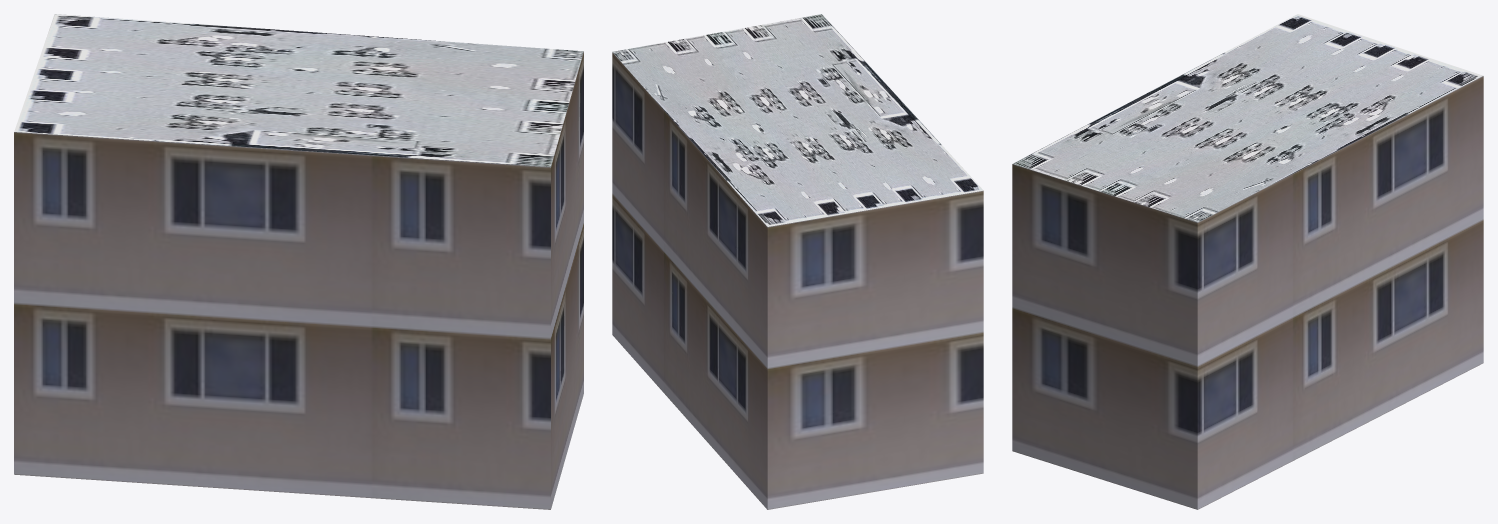
The model's file is ResTex__4622.fbx.
3 renders of one model, left to right at view 1: azimuth 30°, elevation 25°; view 2: azimuth 150°, elevation 25°; view 3: azimuth 270°, elevation 25°, orthographic. The views are drawn at different scales.
Visible parts, largest first — view 1: CityEngineMaterial_21_m, CityEngineMaterial_2_m; view 2: CityEngineMaterial_21_m, CityEngineMaterial_2_m; view 3: CityEngineMaterial_21_m, CityEngineMaterial_2_m.
Boxes of the visible parts, left/top/right/bottom form: CityEngineMaterial_21_m: left=14, top=51, right=583, bottom=509; CityEngineMaterial_2_m: left=14, top=14, right=583, bottom=167; CityEngineMaterial_21_m: left=612, top=52, right=983, bottom=509; CityEngineMaterial_2_m: left=612, top=14, right=983, bottom=226; CityEngineMaterial_21_m: left=1012, top=76, right=1483, bottom=509; CityEngineMaterial_2_m: left=1013, top=14, right=1482, bottom=222.
Bounding box in the file's own units: 9.34 × 6 × 8.92.
2 materials, 2 textured.
